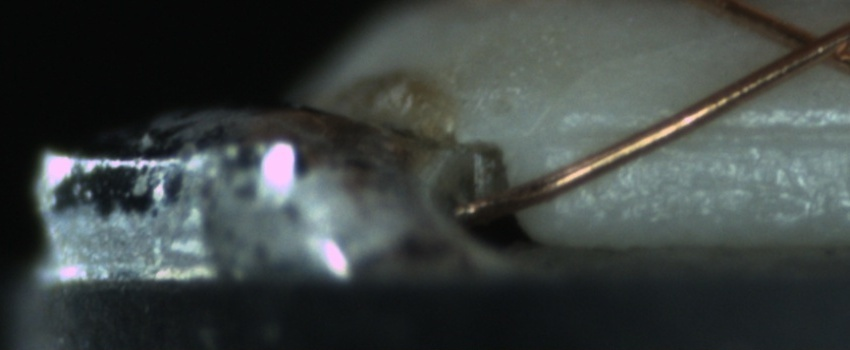CL: (770, 13, 849, 74)
DL: (568, 99, 845, 164)
